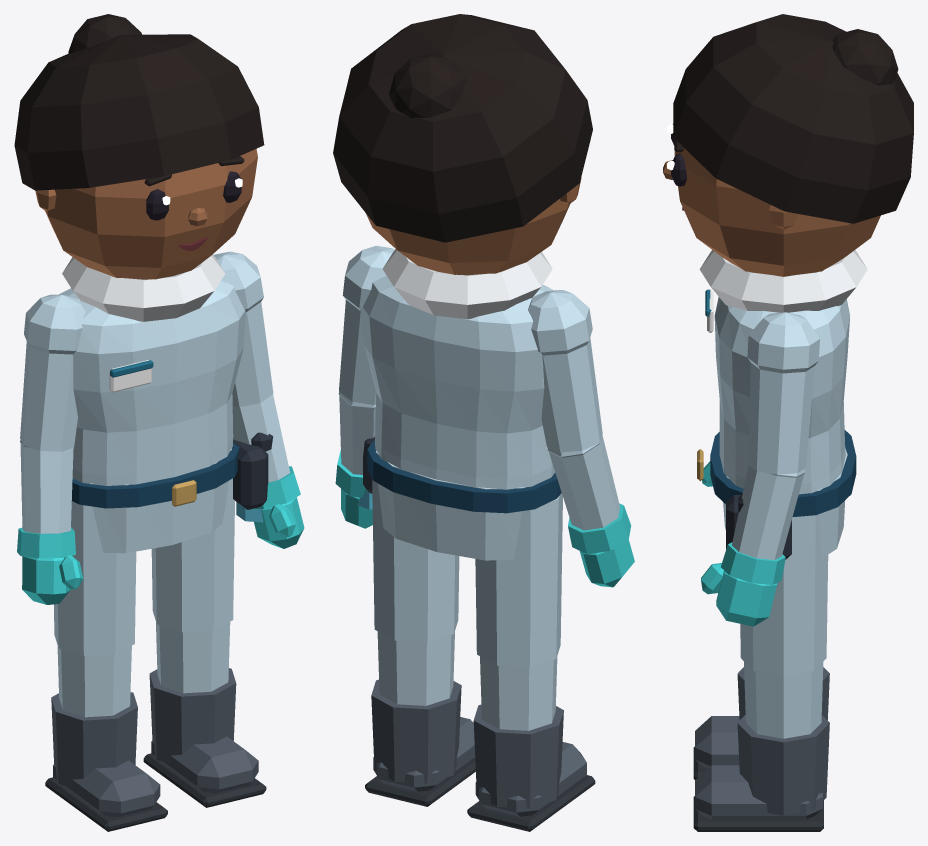
The model's file is rei_fro.glb.
3 views of the same model, side by side, from view 1: azimuth 30°, elevation 25°; view 2: azimuth 150°, elevation 25°; view 3: azimuth 270°, elevation 25° (orthographic). The views are drawn at different scales.
Parts seen in each view (by area): view 1: haare, torso, kopf, arm_r, bein_r, bein_l, schuh_l, schuh_r, arm_l, kragen, becken, gürtel (+5 smaller); view 2: haare, torso, bein_r, arm_r, bein_l, schuh_r, schuh_l, arm_l, becken, kragen, kopf, gürtel (+3 smaller); view 3: haare, arm_l, bein_l, torso, schuh_l, kopf, kragen, gürtel, schuh_r, hand_l, becken, accessoire_sprayholster (+1 smaller).
Boxes of the visible parts, box(x1,y1,x2,y2) form: haare: box(14, 14, 264, 190); torso: box(59, 280, 245, 485); kopf: box(35, 149, 257, 279); arm_r: box(17, 294, 85, 558); bein_r: box(54, 501, 136, 717); bein_l: box(151, 478, 234, 693); schuh_l: box(143, 668, 266, 807); schuh_r: box(45, 692, 167, 831); arm_l: box(214, 251, 300, 508); kragen: box(62, 254, 225, 321); becken: box(89, 448, 231, 553); gürtel: box(71, 442, 239, 508); haare: box(333, 14, 592, 242); torso: box(362, 276, 555, 489); bein_r: box(475, 493, 562, 730); arm_r: box(528, 290, 631, 554); bein_l: box(372, 479, 459, 705); schuh_r: box(467, 704, 595, 831); schuh_l: box(365, 679, 475, 806); arm_l: box(335, 245, 394, 497); becken: box(376, 451, 525, 560); kragen: box(382, 249, 552, 319); kopf: box(366, 177, 581, 275); gürtel: box(367, 440, 561, 513); haare: box(673, 14, 913, 223); arm_l: box(721, 312, 819, 584); bein_l: box(740, 514, 828, 738); torso: box(714, 297, 849, 494); schuh_l: box(693, 715, 829, 831); kopf: box(674, 148, 880, 276); kragen: box(699, 250, 867, 312); gürtel: box(697, 430, 856, 516); schuh_r: box(693, 667, 829, 779); hand_l: box(701, 563, 776, 626); becken: box(723, 448, 847, 558); accessoire_sprayholster: box(726, 494, 791, 584).
Size of the model in its own units: 0.00962 by 0.0244 by 0.0073.
